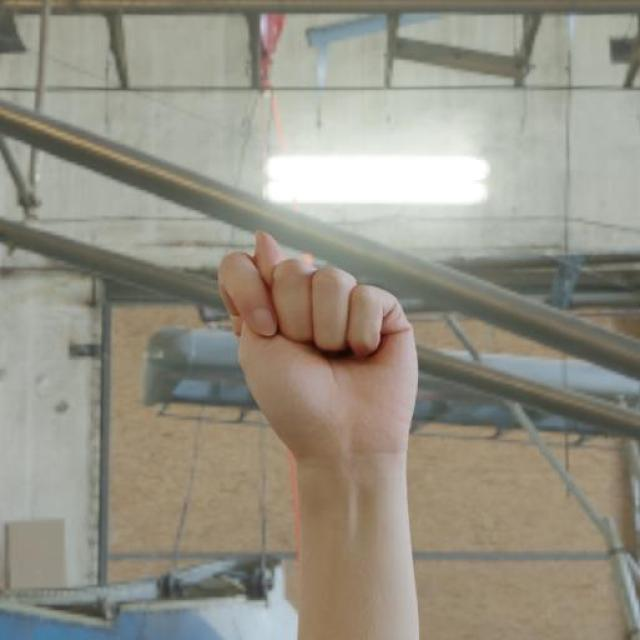T: (212, 226, 424, 465)
